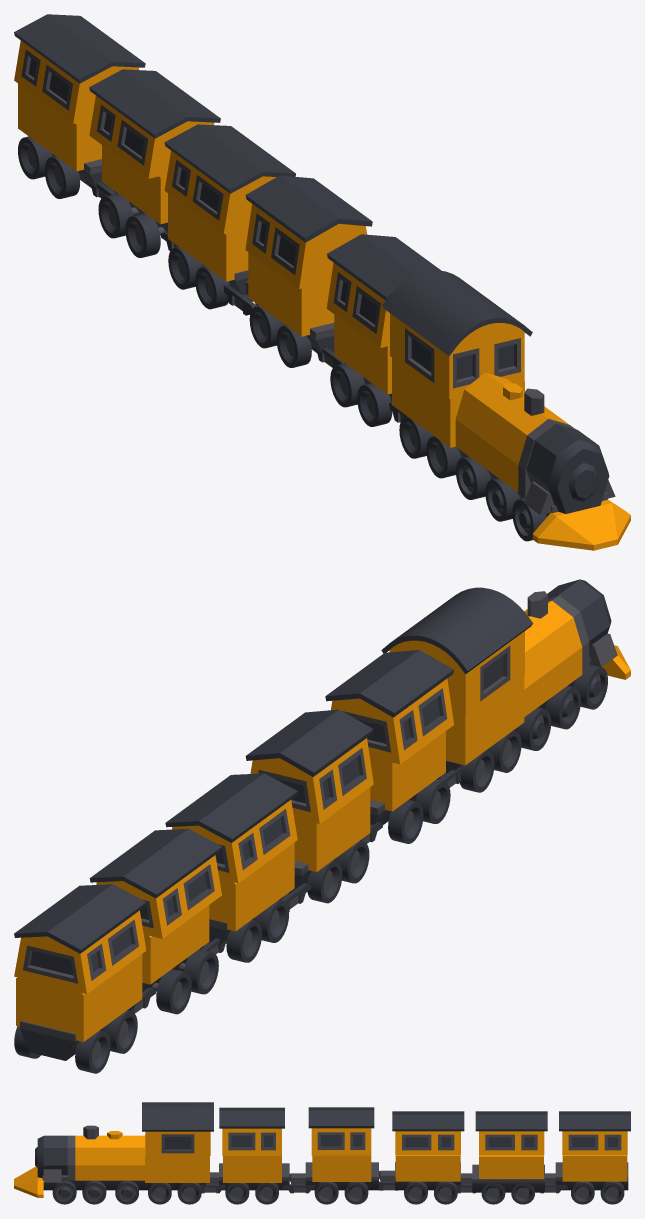
The model's file is longTrain.fbx.
The picture shows the model from 3 angles, top to bottom: view 1: azimuth 30°, elevation 25°; view 2: azimuth 150°, elevation 25°; view 3: azimuth 270°, elevation 25°; orthographic projection. The views are drawn at different scales.
Visible parts, largest first — view 1: mergedBlocks; view 2: mergedBlocks; view 3: mergedBlocks.
Part boxes in pixels (x1,y1,x2,y2): mergedBlocks: (14,14,630,550); mergedBlocks: (14,579,630,1073); mergedBlocks: (14,1102,630,1204).
Size of the model in its own units: 10 by 16.5 by 104.
